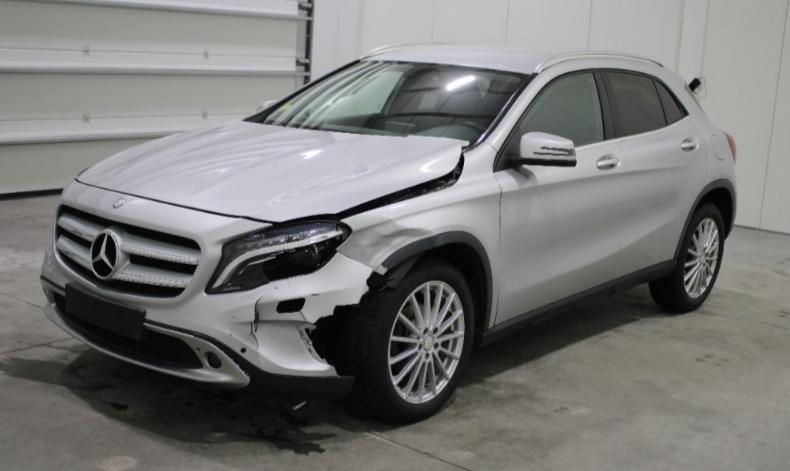Back-door: (600, 69, 711, 280)
Back-wheel: (648, 203, 725, 314)
Back-window: (607, 73, 666, 136), (656, 81, 682, 122)
Fender: (337, 143, 501, 331)
Front-bumper: (40, 177, 375, 400)
Front-door: (493, 69, 628, 326)
Front-wheel: (350, 264, 474, 424)
Front-window: (519, 68, 605, 147)
Grille: (56, 205, 201, 297)
Headlight: (205, 220, 352, 294)
Hood: (77, 119, 469, 223)
License-plate: (66, 283, 145, 340)
Mirror: (519, 131, 577, 167)
Quarter-panel: (689, 108, 738, 240)
Rocker-panel: (483, 260, 676, 346)
Roof: (359, 41, 662, 75)
Tail-light: (724, 131, 737, 164)
Windshield: (241, 59, 534, 152)
